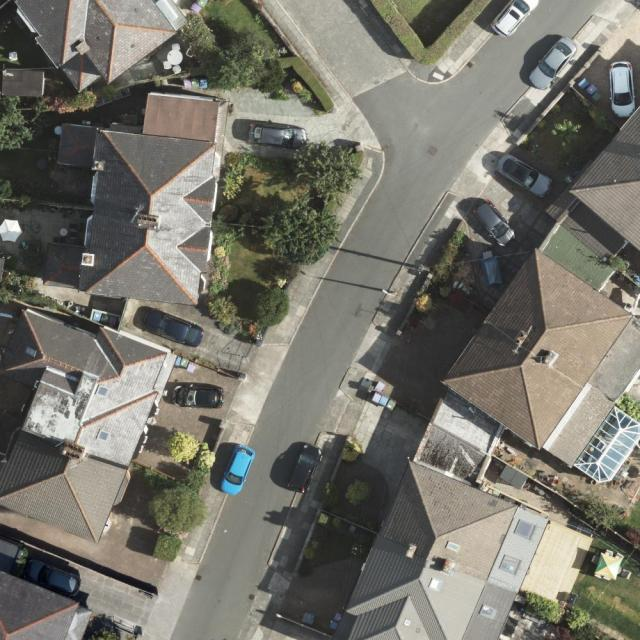roof: (330, 102, 640, 640), (0, 306, 176, 547), (43, 92, 226, 307), (8, 0, 191, 102), (0, 569, 92, 640)
skylight: (575, 404, 640, 482), (498, 554, 522, 576), (513, 519, 535, 541), (477, 603, 496, 621), (427, 577, 442, 593), (444, 539, 461, 553), (95, 429, 110, 443), (23, 347, 37, 359), (98, 384, 110, 397), (402, 618, 411, 628)
